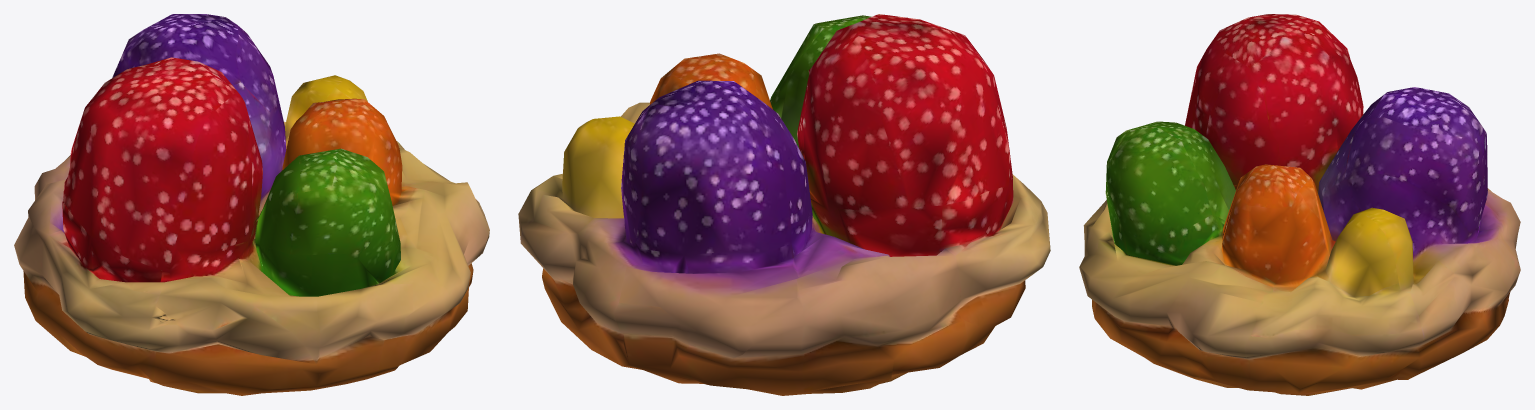
File: candy-gumdrop-cluster-lod-C8fVGrO7.glb
3 renders of one model, left to right at view 1: azimuth 30°, elevation 25°; view 2: azimuth 150°, elevation 25°; view 3: azimuth 270°, elevation 25°, orthographic. The views are drawn at different scales.
Visible parts, largest first — view 1: tripo_node_802667cd-89f1-4cbd-8733-680388ca156a; view 2: tripo_node_802667cd-89f1-4cbd-8733-680388ca156a; view 3: tripo_node_802667cd-89f1-4cbd-8733-680388ca156a.
Boxes of the visible parts, x1,y1,x2,y2 form: tripo_node_802667cd-89f1-4cbd-8733-680388ca156a: [14, 14, 489, 395]; tripo_node_802667cd-89f1-4cbd-8733-680388ca156a: [518, 14, 1050, 395]; tripo_node_802667cd-89f1-4cbd-8733-680388ca156a: [1079, 14, 1520, 395].
Size of the model in its own units: 0.9951 by 0.7005 by 0.9942.
1 material, 1 textured.
